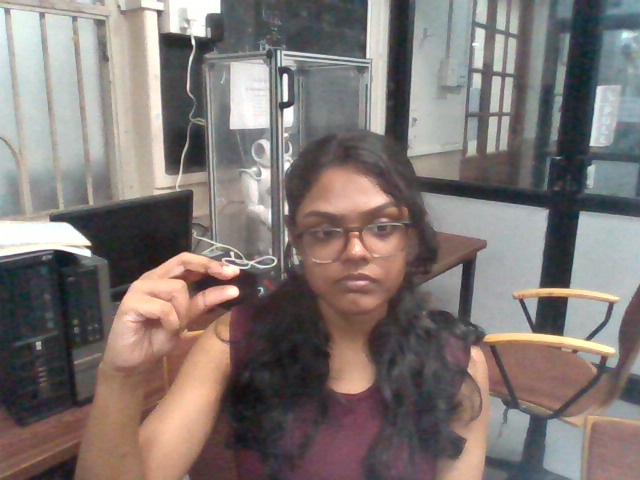No: (102, 250, 241, 371)
